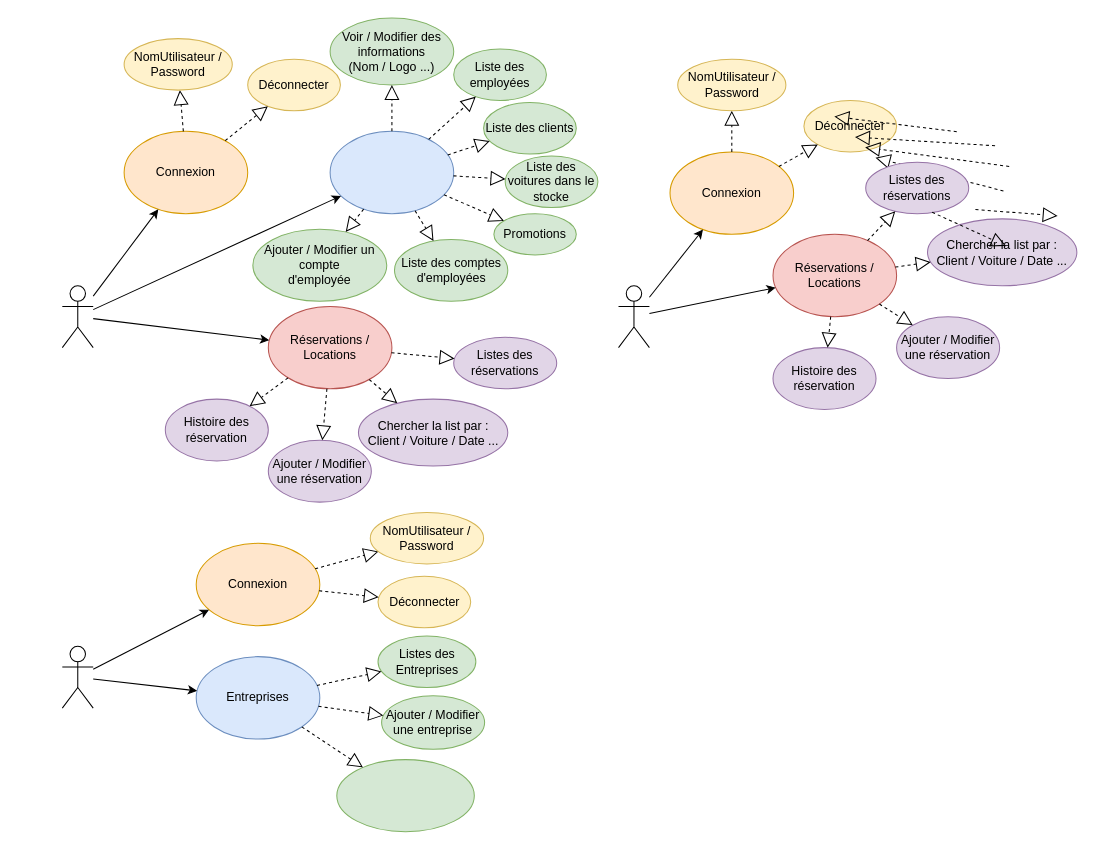
Image size: 1095x850. Some labels were removed from this diagram. The centre of each missing label's shape, as x and y in pixels:
Admin de l'application: the point at 77,676
Admin de l'entreprise: the point at 77,316
Ajouter / Modifier les comptes d'administrateur des entreprises: the point at 405,795
Employée: the point at 633,316
Profile de l'entreprise: the point at 391,172
